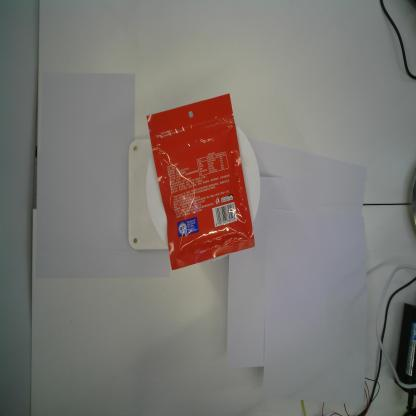Dried Fruit: (145, 92, 256, 273)
